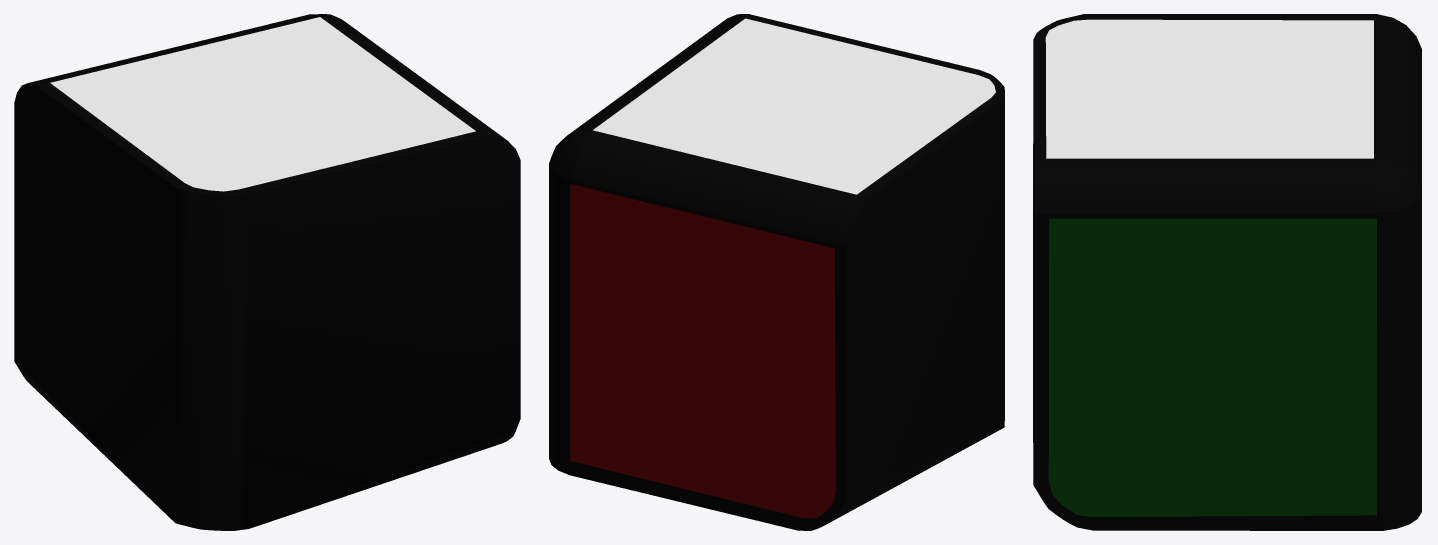
The model's file is cornerWGR.obj.
3 views of the same model, side by side, from view 1: azimuth 30°, elevation 25°; view 2: azimuth 150°, elevation 25°; view 3: azimuth 270°, elevation 25° (orthographic). The views are drawn at different scales.
Visible parts, largest first — view 1: BasicCorner_Plane, ColoredSide1_Plane.001; view 2: BasicCorner_Plane, ColoredSide3_Plane.005, ColoredSide1_Plane.001; view 3: ColoredSide2_Plane.004, BasicCorner_Plane, ColoredSide1_Plane.001.
Boxes of the visible parts, x1,y1,x2,y2 form: BasicCorner_Plane: [14, 14, 520, 530]; ColoredSide1_Plane.001: [50, 17, 475, 191]; BasicCorner_Plane: [549, 14, 1004, 530]; ColoredSide3_Plane.005: [570, 184, 835, 518]; ColoredSide1_Plane.001: [593, 18, 995, 194]; ColoredSide2_Plane.004: [1048, 218, 1376, 516]; BasicCorner_Plane: [1033, 14, 1421, 530]; ColoredSide1_Plane.001: [1045, 19, 1373, 158].
Size of the model in its own units: 0.1809 by 0.1801 by 0.1809.
